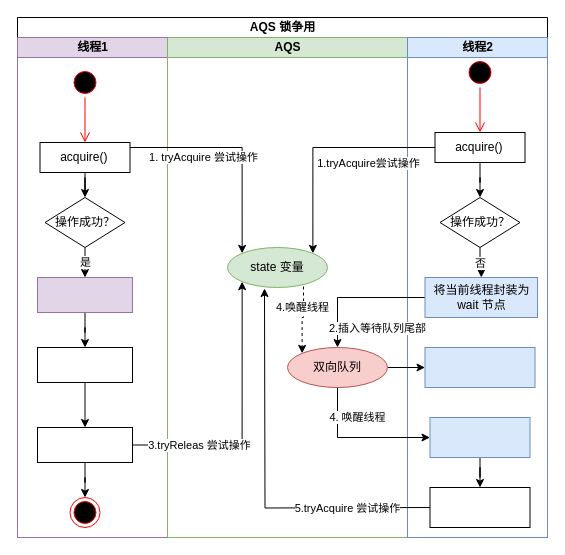
This 565x555 diagram has some shape labels left out. Each missing label, with the centre of its shape:
park 当前线程: pixel 479 367
release(): pixel 84 444
从 park 处继续执行: pixel 479 507
从双向队列头部开始 unpark 线程: pixel 479 437
执行业务逻辑: pixel 84 364
设置当前线程为锁的 owner 线程: pixel 84 294
